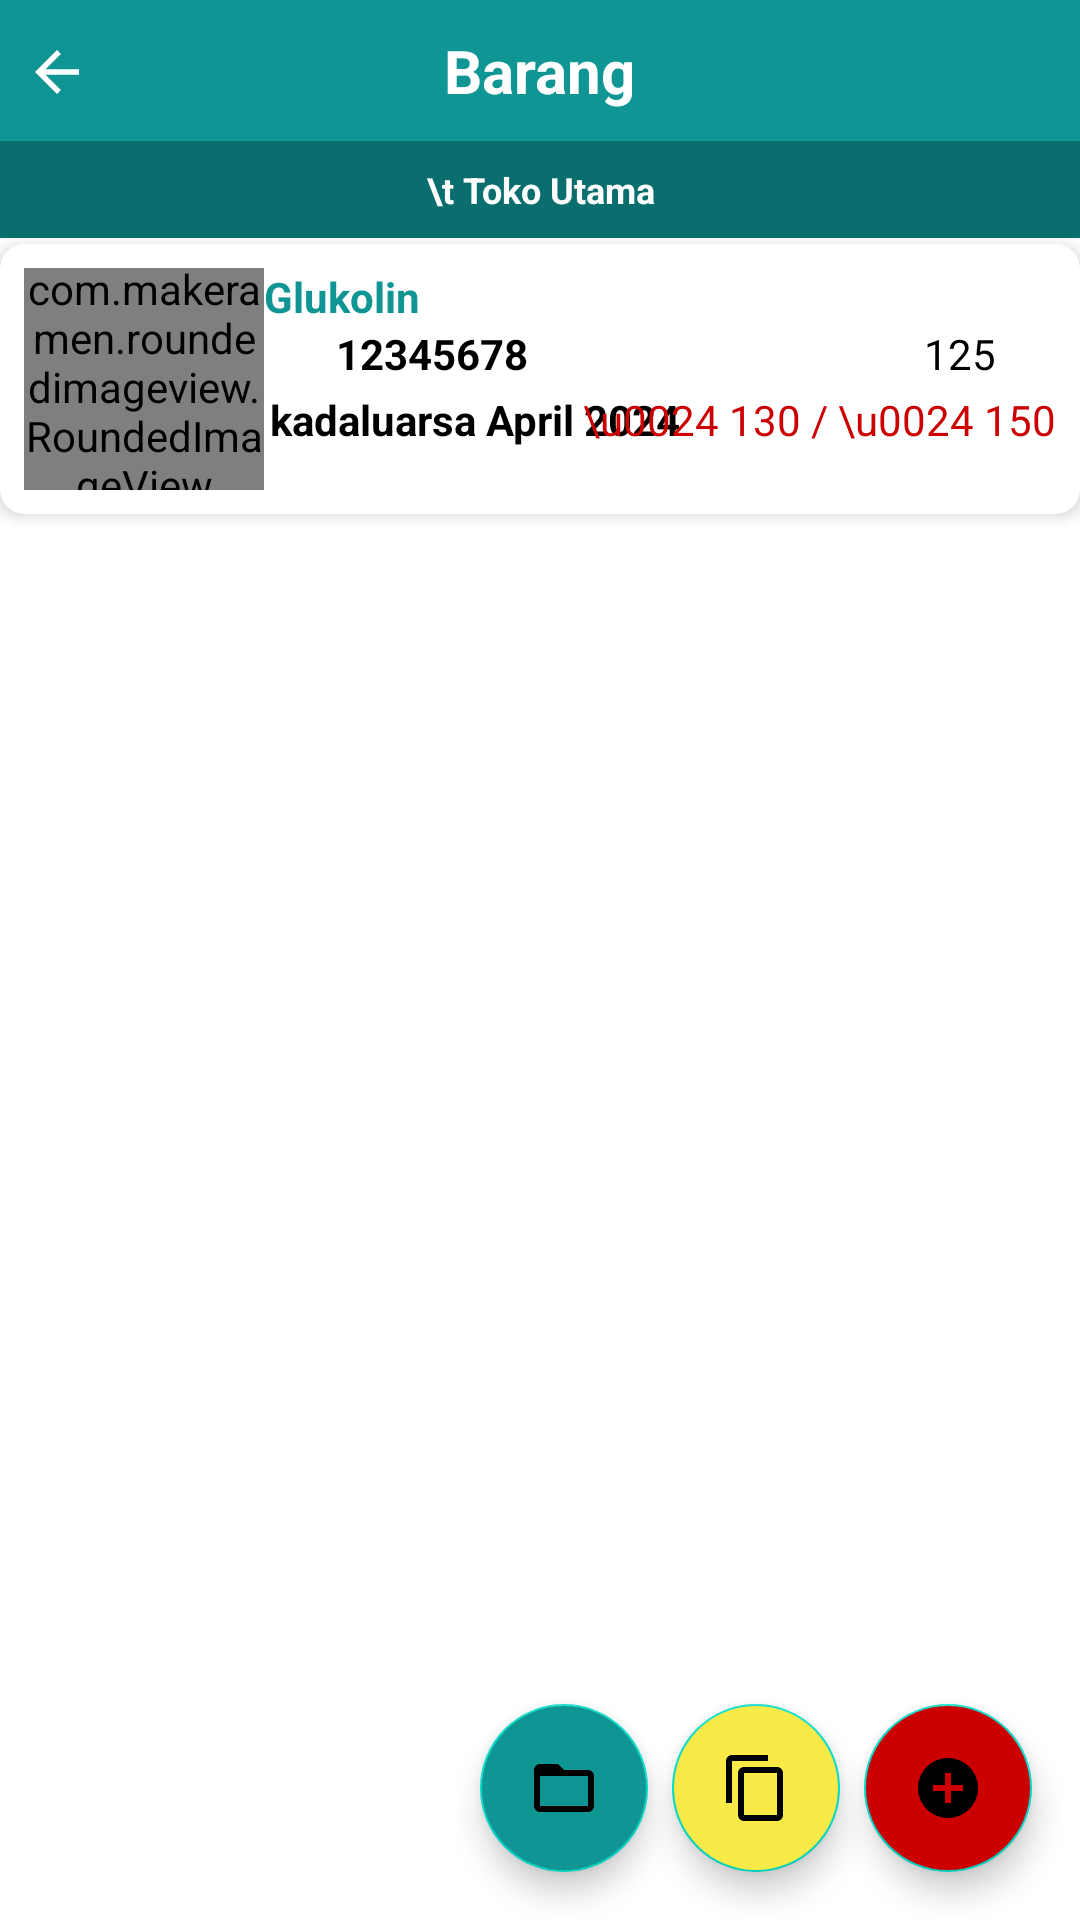

Screen size 1080x1920. Icon name, then its box in pixels as (left=x1, top=y1, right=x2, bottom=y2):
add: (left=864, top=1704, right=1032, bottom=1872)
back: (left=35, top=50, right=79, bottom=94)
folder: (left=480, top=1704, right=648, bottom=1872)
